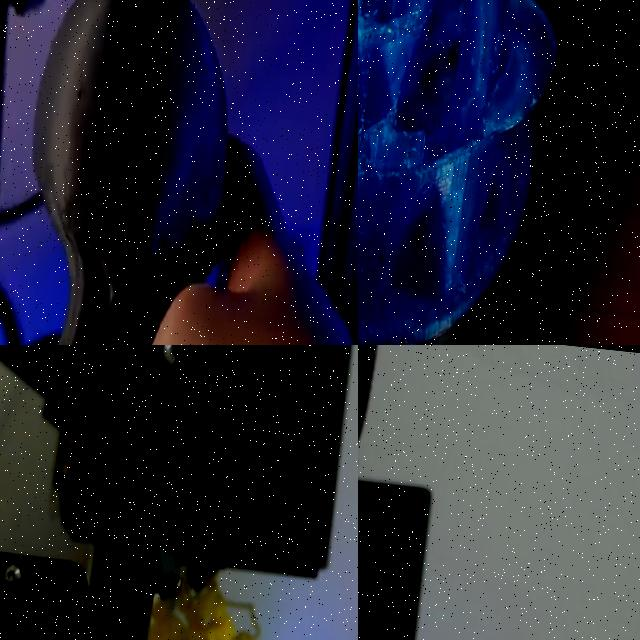spaghetti: (358, 0, 455, 330), (147, 565, 259, 640)
